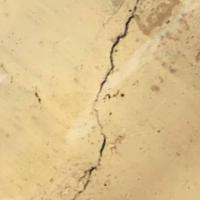crack: (80, 4, 132, 199)
